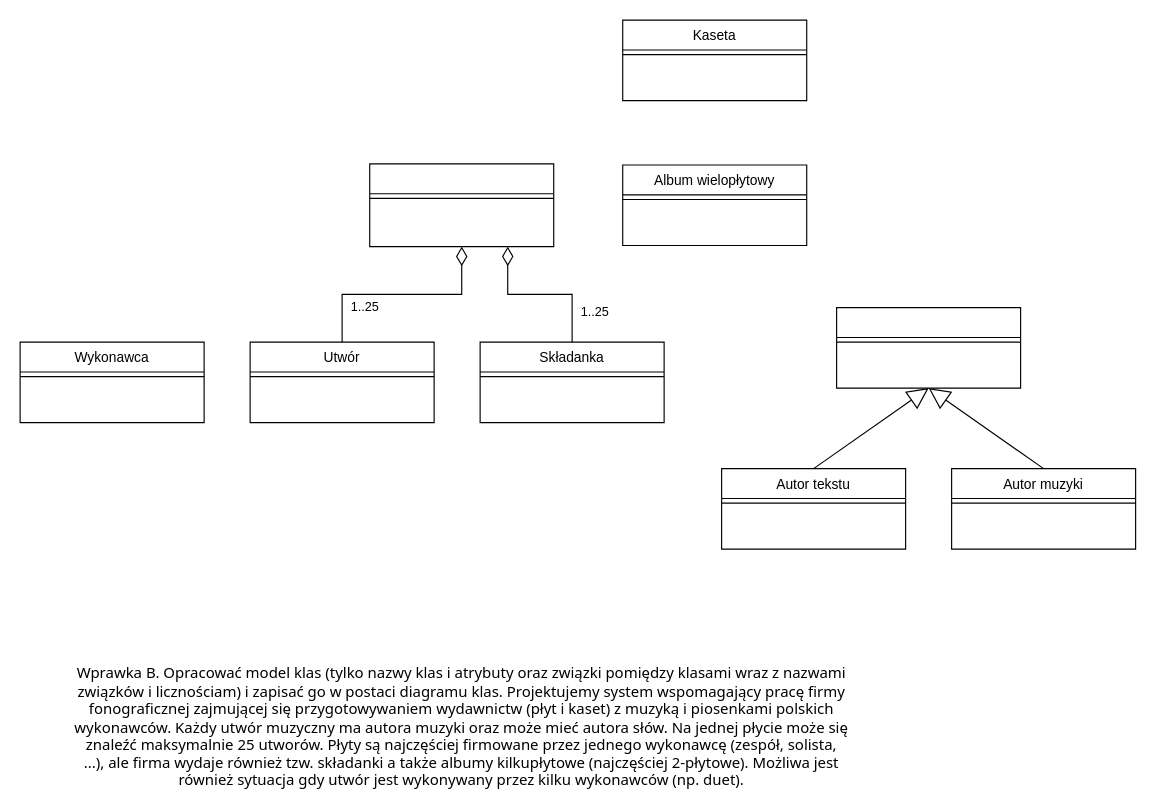
Image size: 1156x810. Some labels were removed from this diagram. The shapes that lost their labels are listed below. From the top down, each one's centre as x and y in pixels, then its label:
At [461,205]: "Płyta".
At [928,347]: "Autor".
